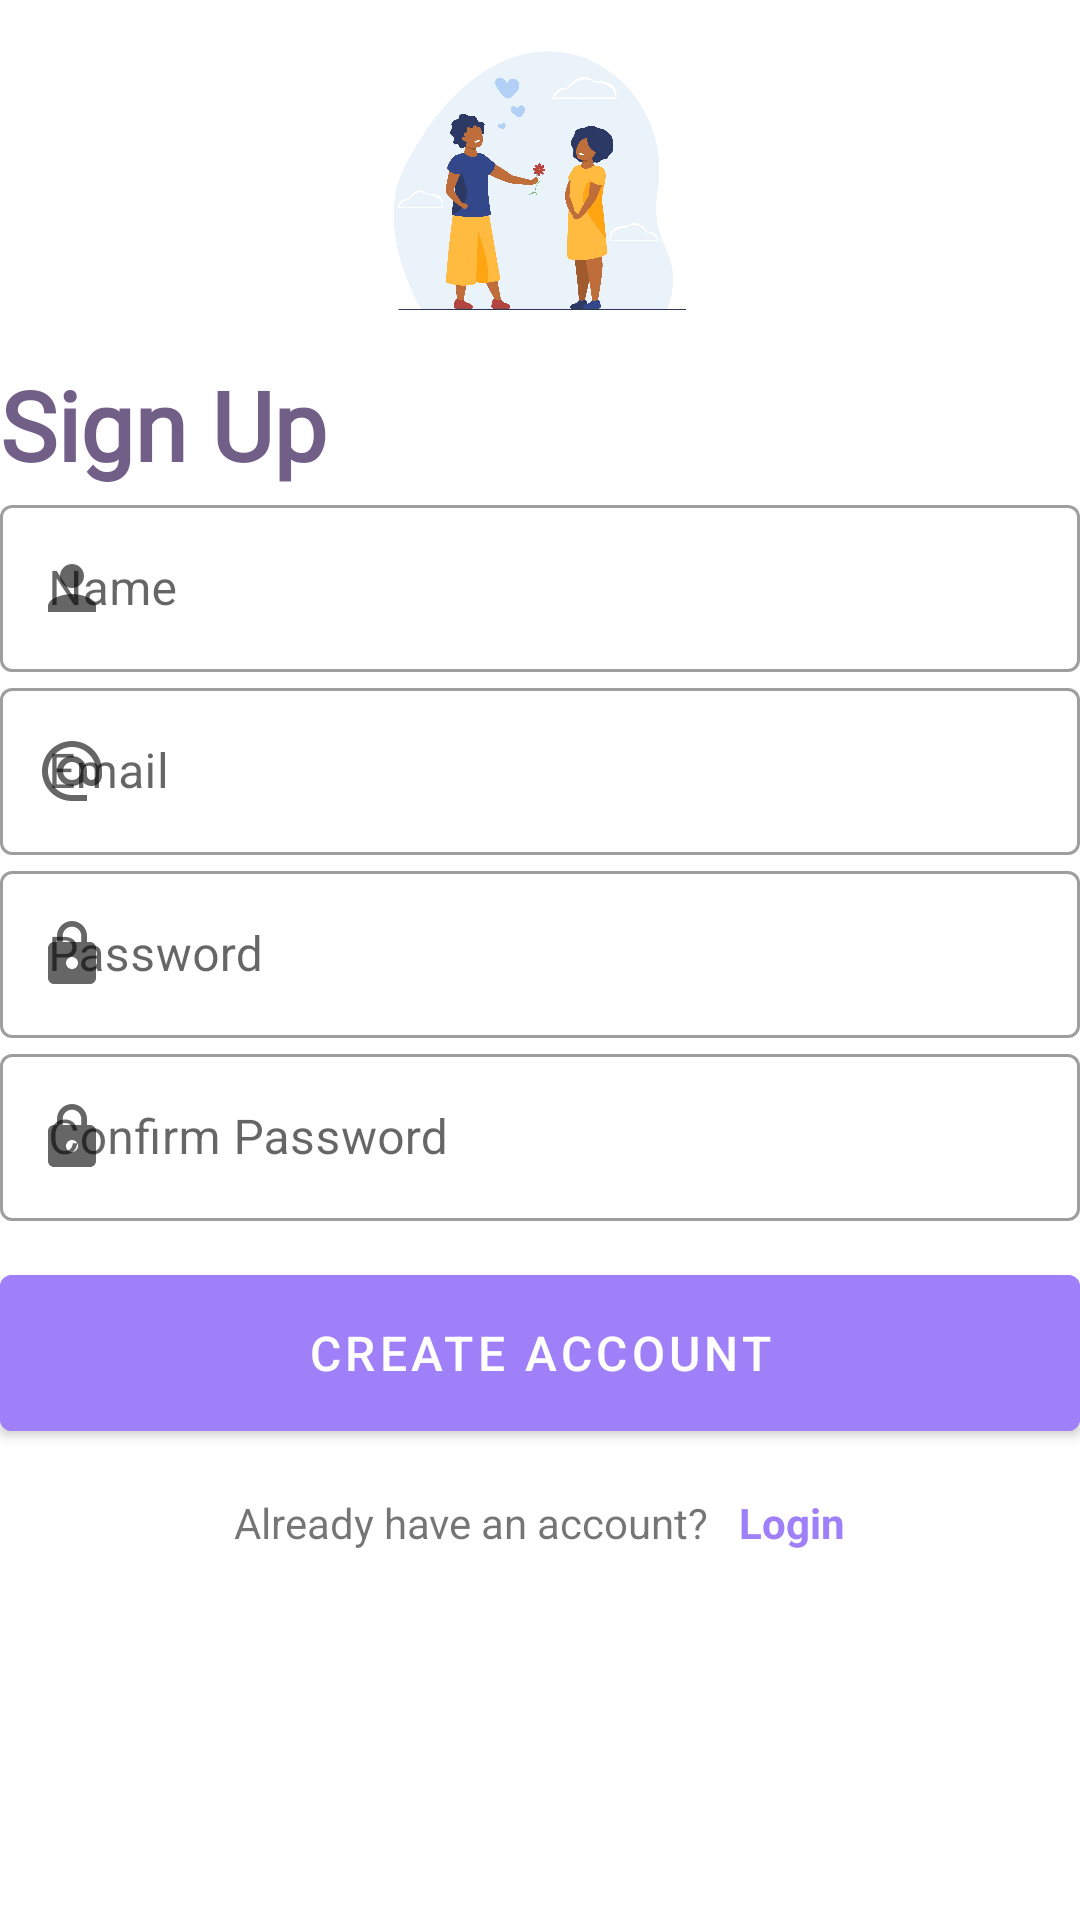

Named icons in this screenshot (1080×1920) and their bounding boxes, (x1, y1, x2, y2):
girl giving flower: (394, 51, 687, 311)
